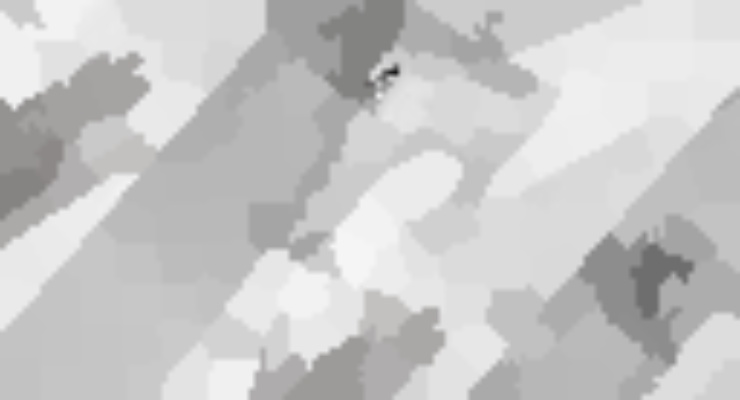washing hand: (1, 0, 599, 399)
